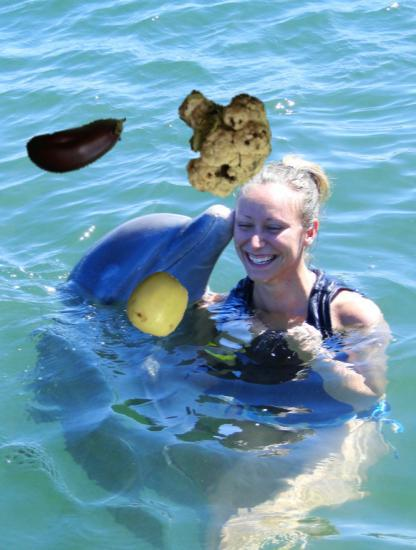Apple: (126, 272, 190, 336)
Cauliflower: (162, 82, 277, 197)
Eggplant: (25, 94, 132, 201)
